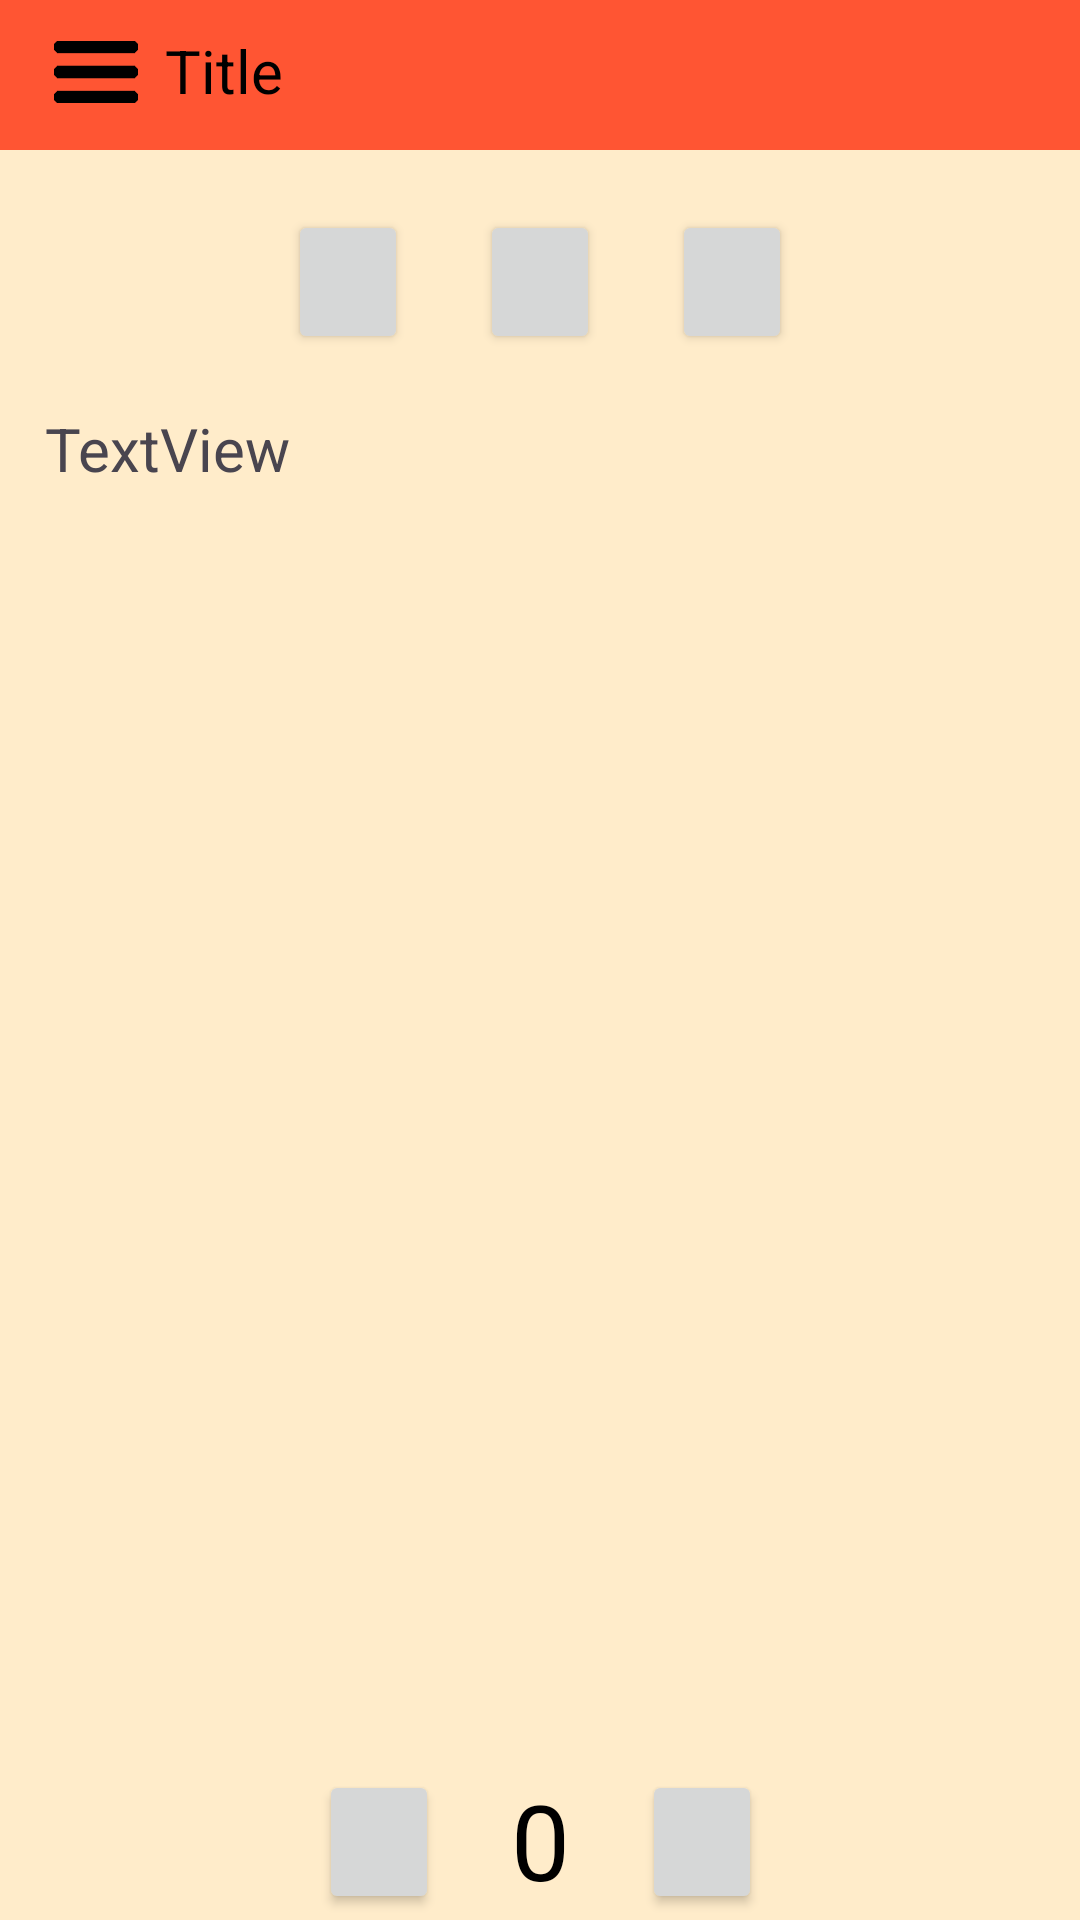

Point at icon controls on the screen. Image size 1080 × 1920, points as (x,y).
open list: (96,72)
